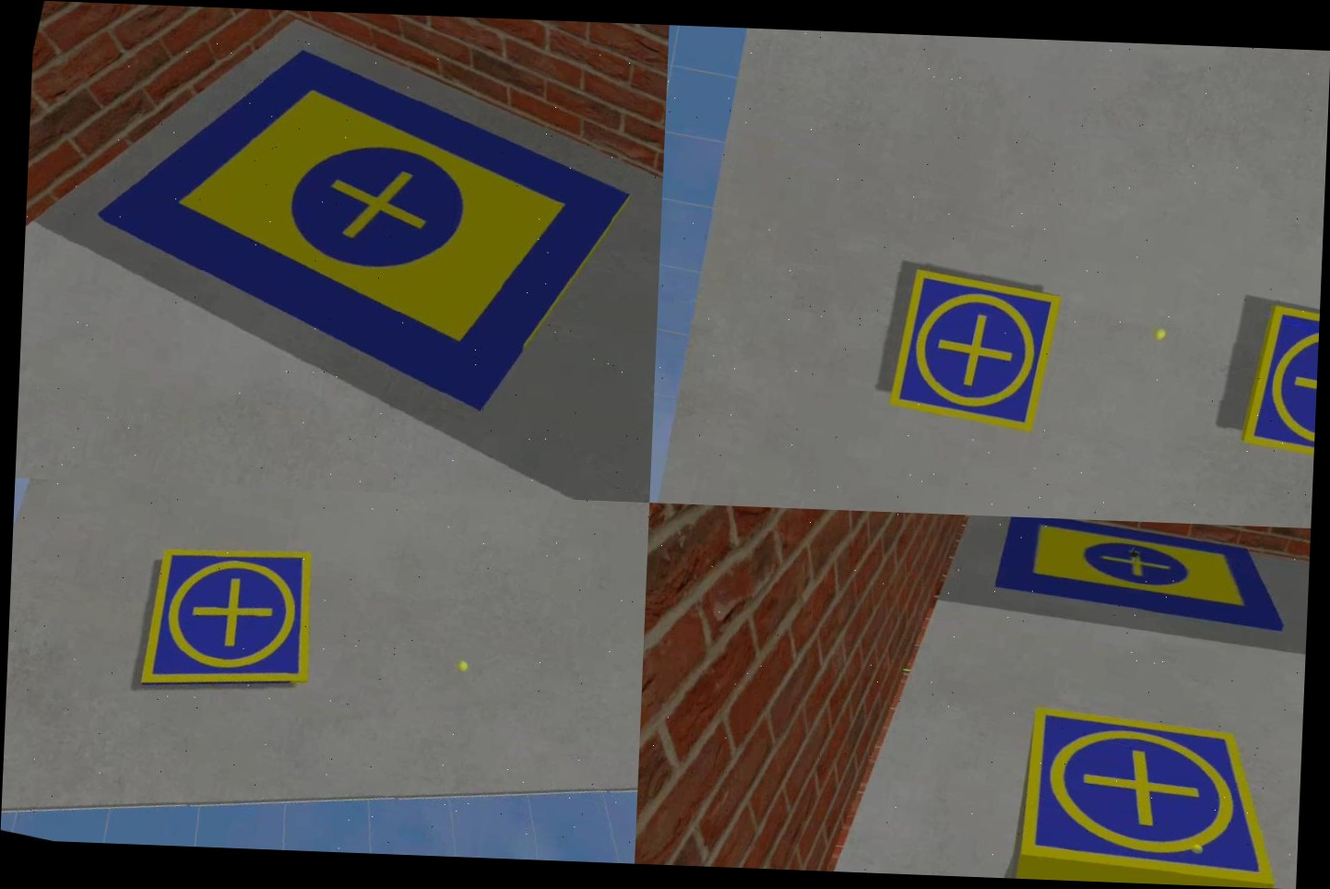large_base: (65, 6, 657, 440), (992, 516, 1306, 644)
small_base: (1002, 692, 1302, 889), (130, 522, 333, 721), (885, 263, 1063, 437), (1238, 300, 1319, 473)
